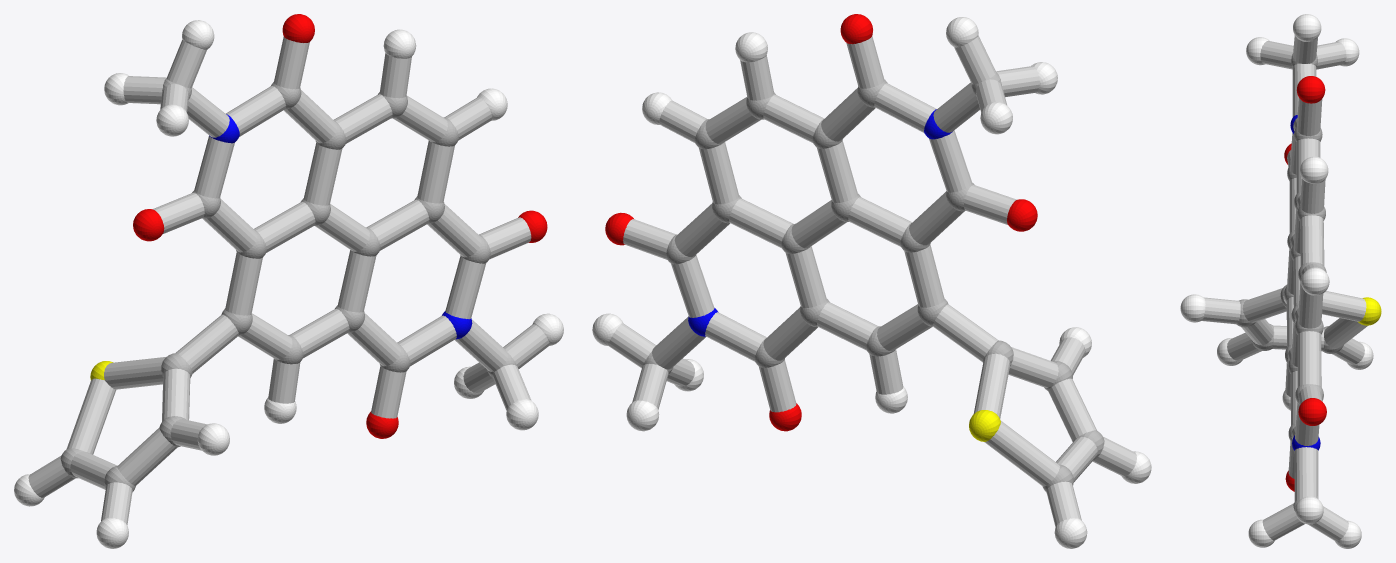
File: Dimethyl_Naphthalene_Dicarboximide_Phi_20_Theta_270_Thiophene.glb
The picture shows the model from 3 angles, left to right: view 1: azimuth 30°, elevation 25°; view 2: azimuth 150°, elevation 25°; view 3: azimuth 270°, elevation 25°; orthographic projection. The views are drawn at different scales.
Parts seen in each view (by area): view 1: grp14119, grp7241, grp1, grp12309, grp11585; view 2: grp14119, grp7241, grp1, grp12309, grp13757, grp11585; view 3: grp14119, grp7241, grp1, grp12309, grp13757.
Boxes of the visible parts, x1,y1,x2,y2 form: grp14119: [28, 36, 549, 525]; grp7241: [14, 20, 563, 548]; grp1: [60, 78, 516, 492]; grp12309: [133, 14, 547, 438]; grp11585: [209, 114, 472, 339]; grp14119: [608, 35, 1136, 526]; grp7241: [592, 17, 1151, 548]; grp1: [643, 72, 1104, 492]; grp12309: [605, 14, 1037, 431]; grp13757: [969, 410, 1000, 441]; grp11585: [688, 109, 952, 336]; grp14119: [1201, 35, 1367, 541]; grp7241: [1180, 14, 1373, 548]; grp1: [1236, 54, 1343, 523]; grp12309: [1284, 76, 1326, 491]; grp13757: [1358, 297, 1381, 325].
Size of the model in its own units: 11 by 9.58 by 4.23.
